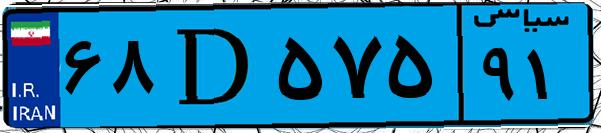1: (525, 38, 570, 115)
5: (270, 28, 330, 110), (385, 28, 445, 110)
6: (57, 26, 110, 100)
7: (330, 28, 385, 110)
8: (110, 28, 158, 98)
9: (475, 38, 525, 113)
D: (158, 12, 270, 120)
